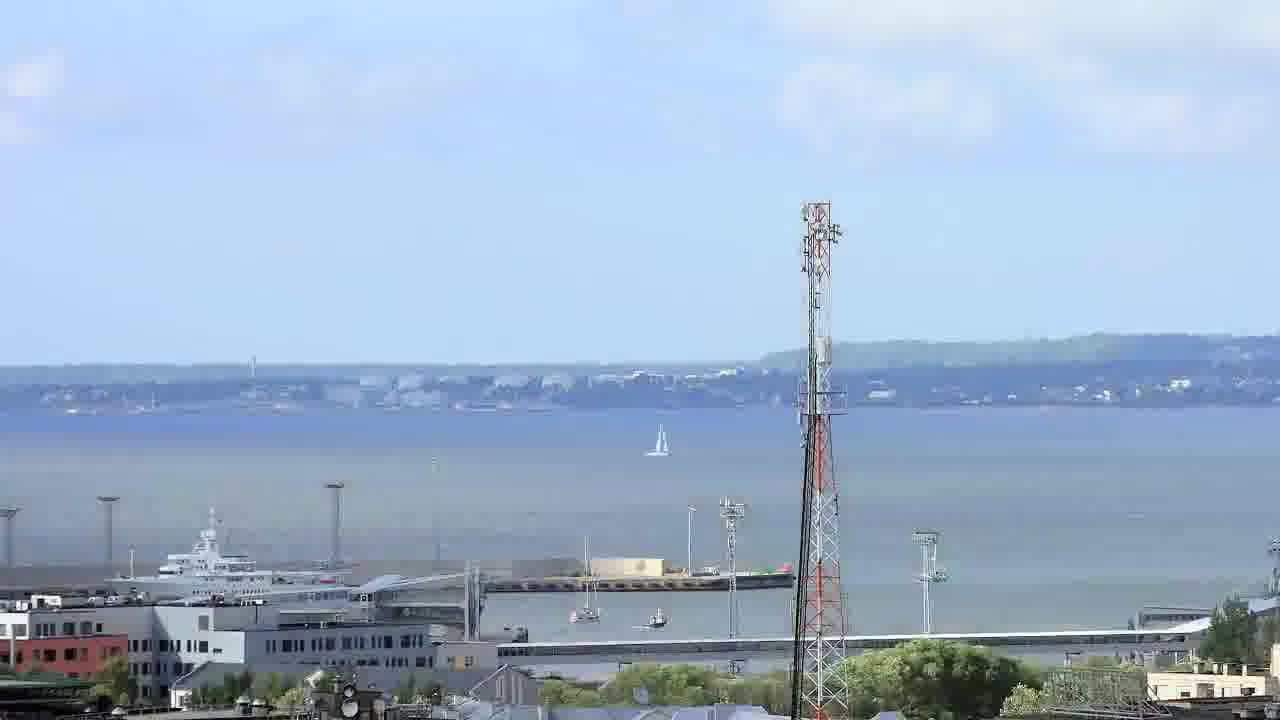type-0: (569, 551, 606, 635), (907, 556, 964, 601), (631, 600, 684, 638)
type-2: (637, 407, 690, 464)
type-3: (98, 503, 361, 603)
